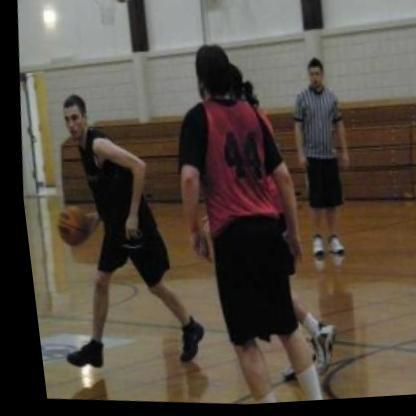basketball: (45, 197, 88, 252)
